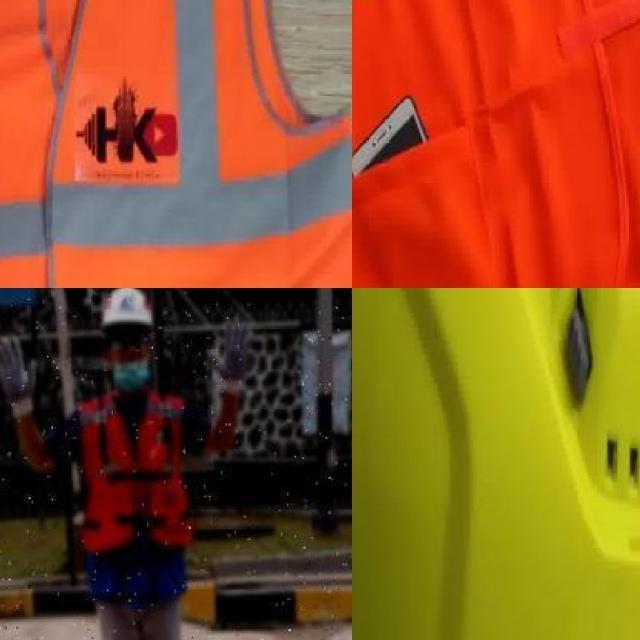apron: (204, 318, 253, 396), (0, 336, 37, 421)
